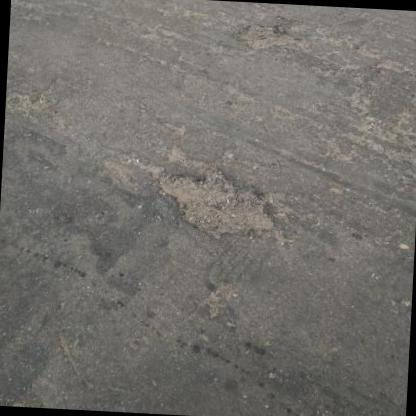pothole: (151, 163, 280, 243), (232, 22, 298, 52)
